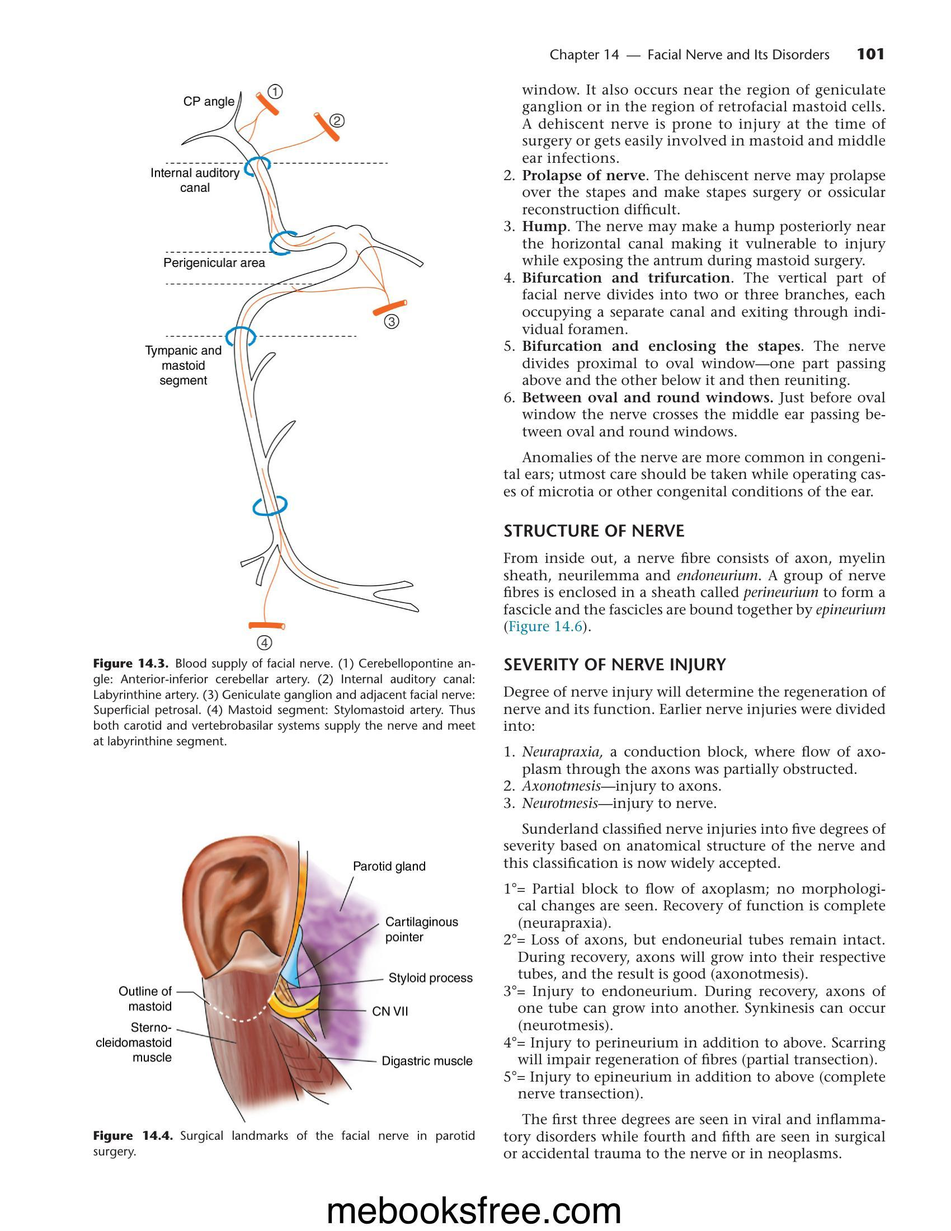caption: (91, 656, 477, 750), (91, 1128, 476, 1160)
header: (549, 48, 830, 64)
image: (114, 74, 450, 652), (90, 821, 477, 1127)
list: (499, 82, 887, 438), (502, 881, 886, 1102), (503, 744, 887, 813)
sub-section-heading: (503, 657, 727, 674), (502, 523, 685, 538)
text: (501, 549, 888, 637), (500, 447, 886, 502), (502, 821, 887, 873), (502, 1112, 886, 1164), (503, 684, 888, 733)
